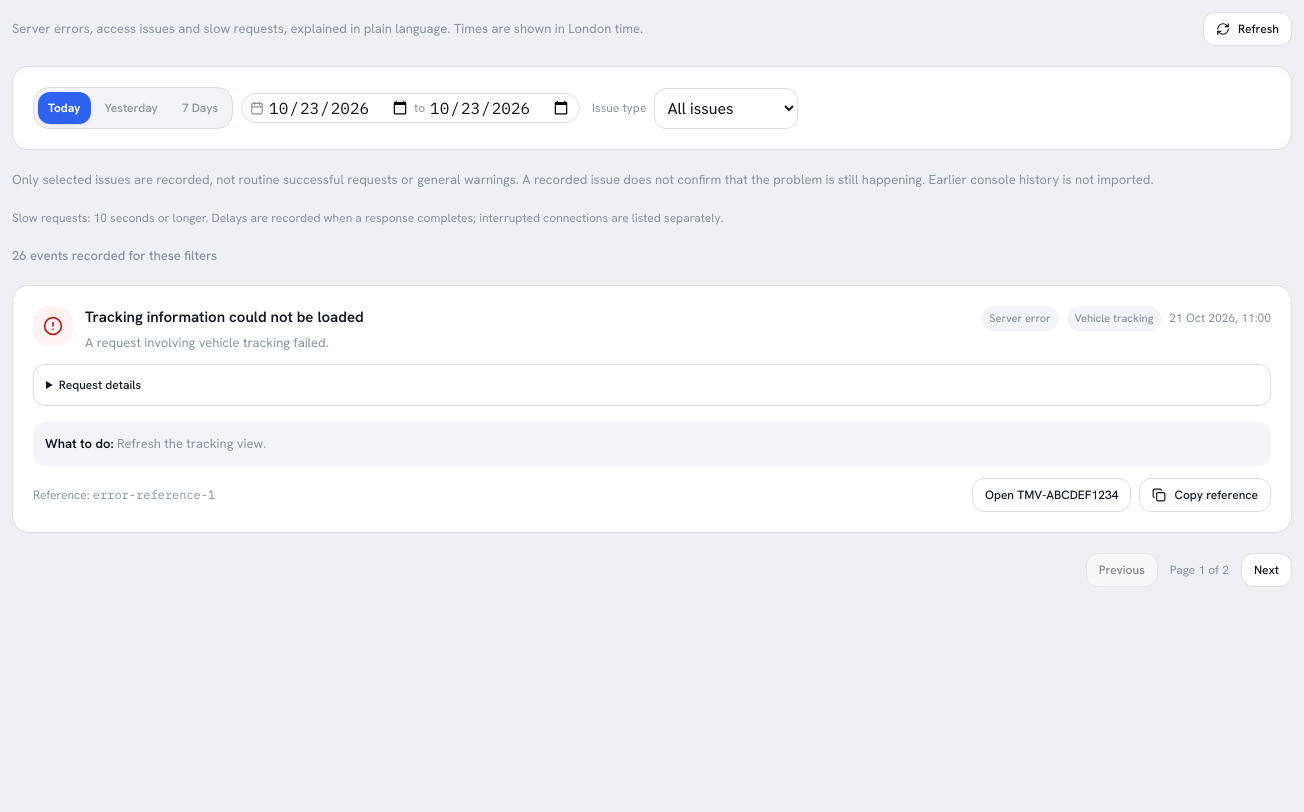
Admin error logs › paginates real records and preserves the selected range
The width and height of the screenshot is (1304, 812).
Click the button "Next".
click(1266, 570)  # box [1241,552,1292,586]
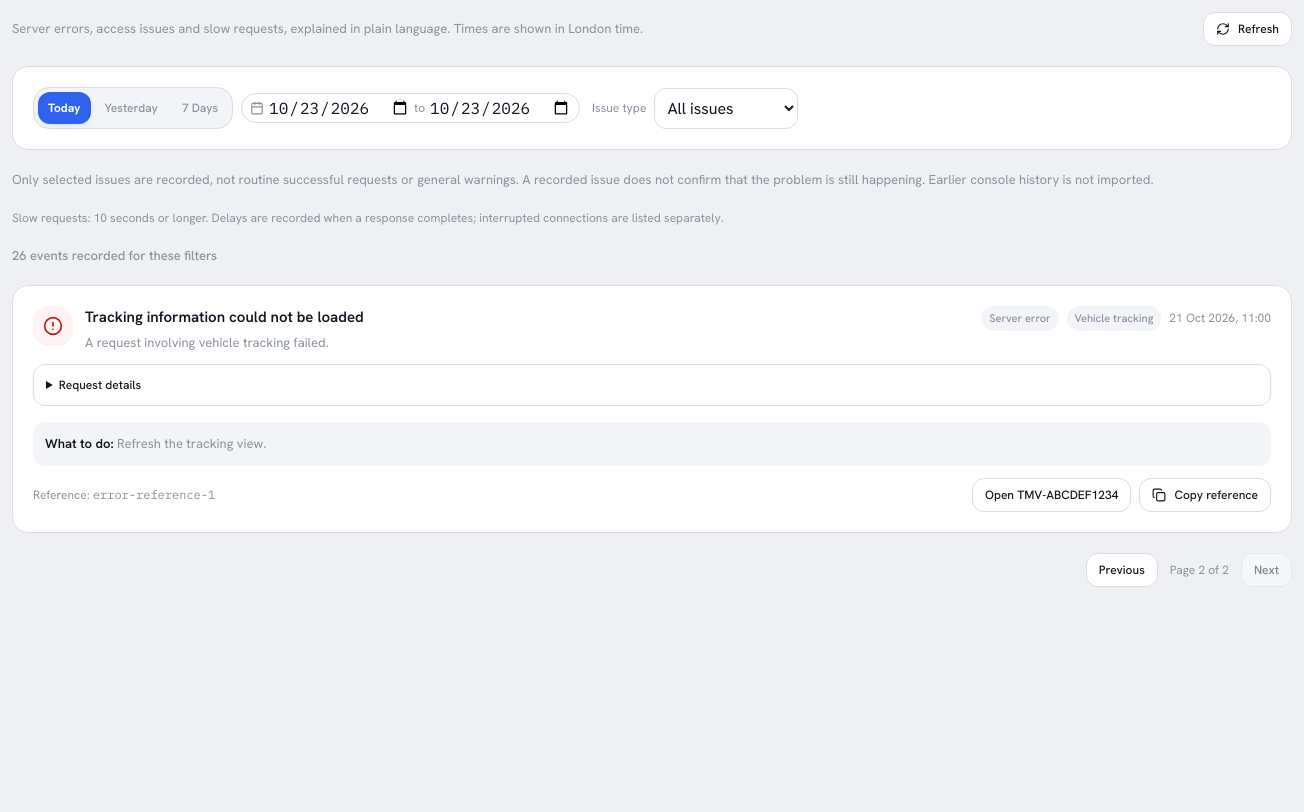
Result: the text "Page 2 of 2" is shown at [1170,562,1229,578]
